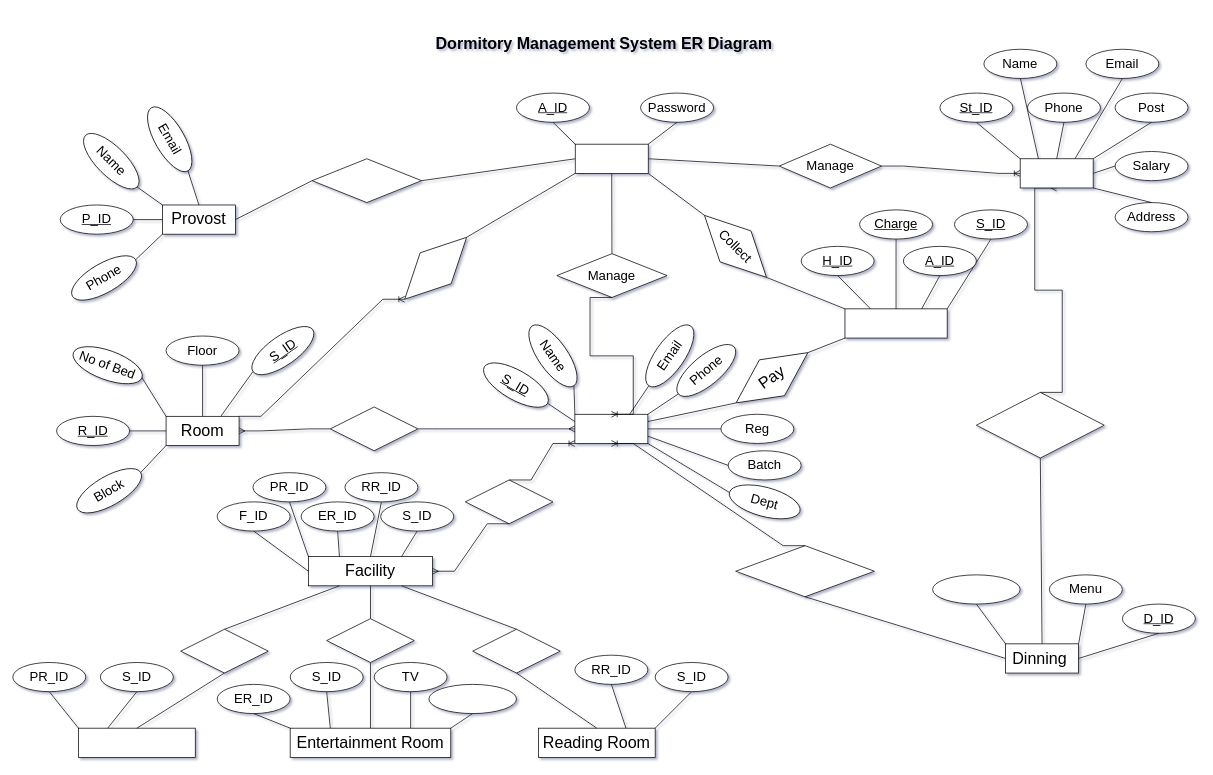
This 1213x775 diagram has some shape labels left out. Here are the shapes that lost their labels. From the top down, the box of each, then its label:
(575, 143, 648, 173): Admin
(1019, 158, 1093, 188): Staff
(311, 158, 422, 203): Control
(388, 221, 482, 315): Allocate
(844, 308, 947, 338): Hall Charge
(330, 406, 418, 451): Hold
(574, 414, 648, 443): Student
(976, 392, 1104, 458): Prepare meal
(465, 479, 553, 524): Get
(735, 545, 874, 597): Meal Requests
(932, 574, 1020, 604): Meal Type
(180, 629, 268, 673): Pray
(326, 618, 414, 662): Entertain
(472, 629, 560, 673): Read
(428, 684, 516, 714): Table Tennis
(78, 727, 195, 757): Prayer Room
